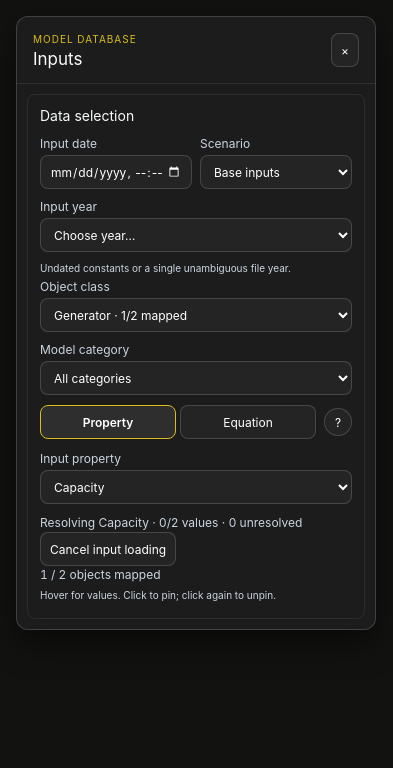
Test: percent-of-total operator maps percentages over the selected object scope
This screenshot has width=393, height=768.
Expected: the text "1 / 2 objects mapped" is shown, [40,567,160,582]
Select "Native" in the dropdown labelled "Model category". click: (196, 378)
box: [40,361,352,395]
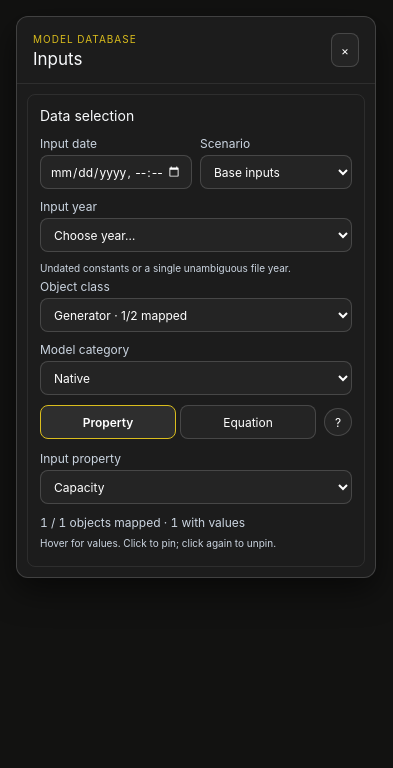
Click the button "Equation". click: (248, 422)
box: [180,405,316,439]
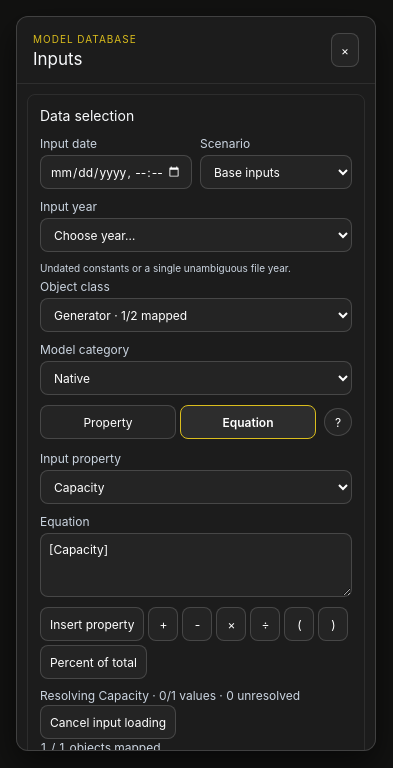
Click the button "Percent of total". click: (93, 662)
box: [40,645,147,679]
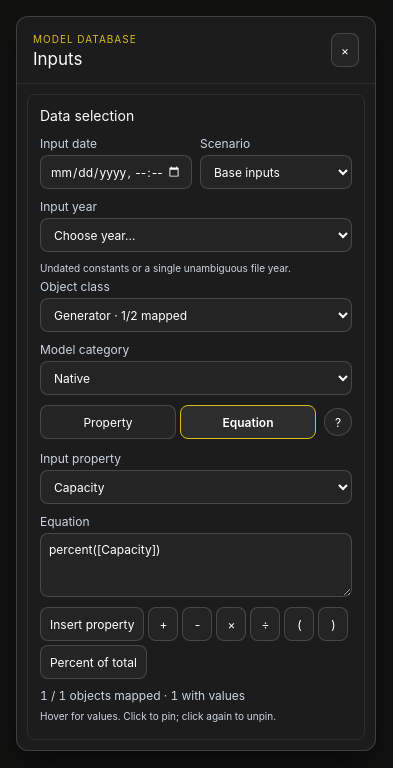
Expected: the text box labelled "Equation" holds "percent([Capacity])", [40,533,352,597]
